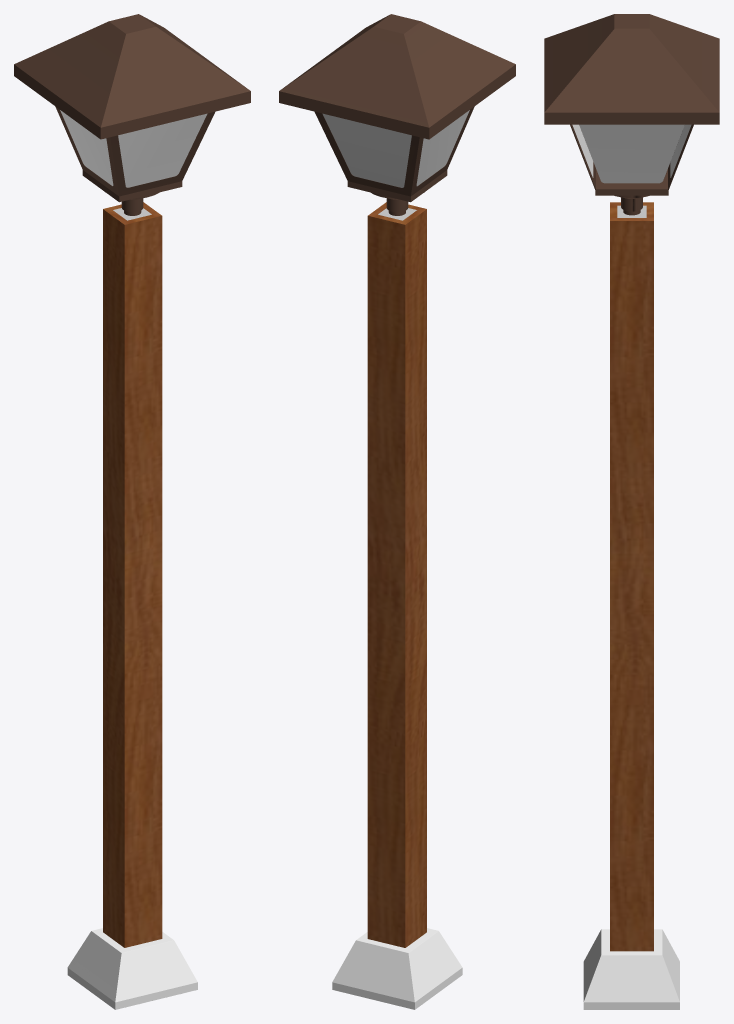
The model's file is Light1.glb.
3 renders of one model, left to right at view 1: azimuth 30°, elevation 25°; view 2: azimuth 150°, elevation 25°; view 3: azimuth 270°, elevation 25°, orthographic.
Visible parts, largest first — view 1: Mesh15; view 2: Mesh15; view 3: Mesh15.
Boxes of the visible parts, left/top/right/bottom form: Mesh15: left=14, top=14, right=250, bottom=1009; Mesh15: left=279, top=14, right=515, bottom=1009; Mesh15: left=544, top=14, right=719, bottom=1009.
Bounding box in the file's own units: 0.5963 × 3.64 × 0.5963.
5 materials, 1 textured.
